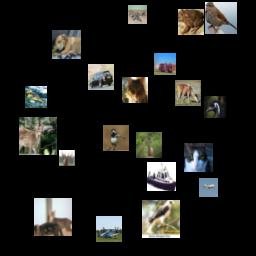airplane: (96, 216, 122, 242), (128, 5, 147, 24), (199, 178, 218, 197)
automobile: (88, 64, 114, 90)
bird: (142, 200, 180, 238), (205, 2, 237, 34), (103, 125, 129, 151), (204, 96, 226, 118), (25, 86, 47, 108)
cat: (34, 198, 72, 236), (184, 143, 213, 172), (122, 77, 148, 103)
deer: (19, 117, 57, 155), (136, 132, 162, 158), (175, 80, 201, 106), (59, 150, 75, 166)
dog: (52, 30, 81, 59)
frog: (178, 9, 204, 35)
ship: (147, 162, 176, 191)
truck: (154, 53, 176, 75)
